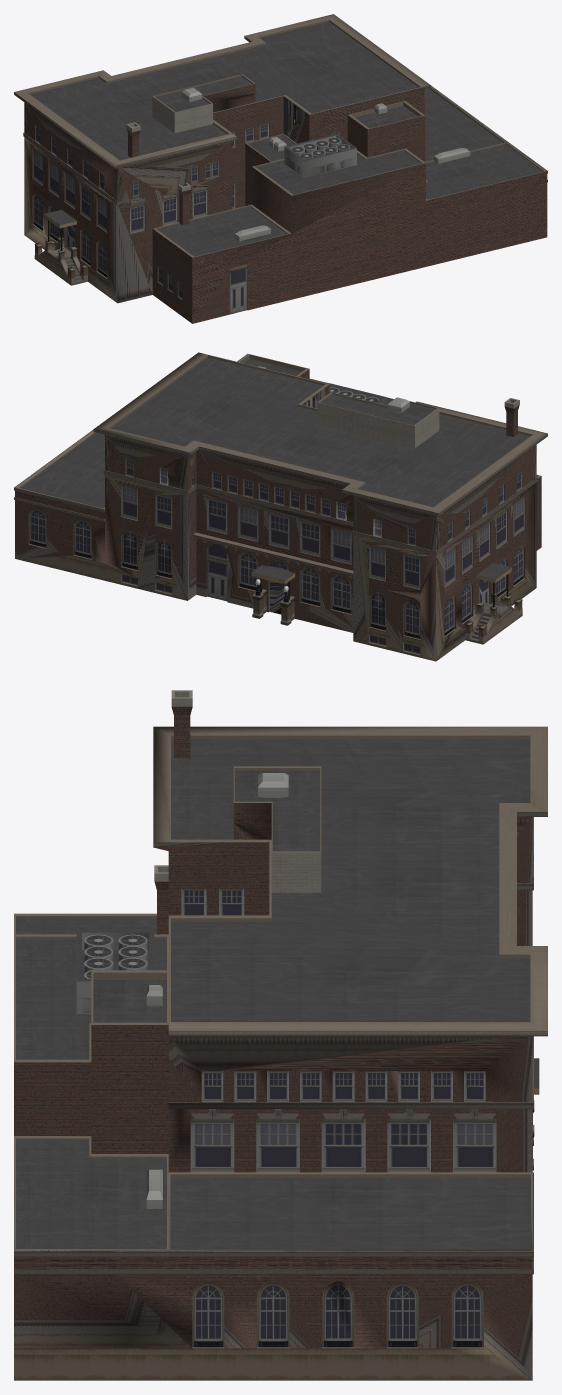
The model's file is 317washington_p6.fbx.
3 renders of one model, top to bottom at view 1: azimuth 30°, elevation 25°; view 2: azimuth 150°, elevation 25°; view 3: azimuth 270°, elevation 25°, orthographic. The views are drawn at different scales.
Visible parts, largest first — view 1: _317washington; view 2: _317washington; view 3: _317washington.
Part boxes in pixels (<box>): _317washington: <box>14,14,547,323</box>; _317washington: <box>14,352,547,661</box>; _317washington: <box>14,690,547,1380</box>.
Size of the model in its own units: 12374 by 4948 by 7187.
Materials: 1 (1 with a texture image).
